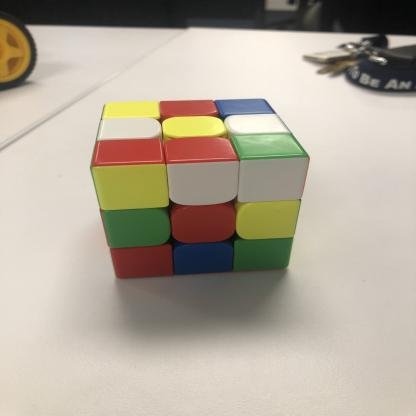UnsolvedCube: (65, 94, 321, 282)
